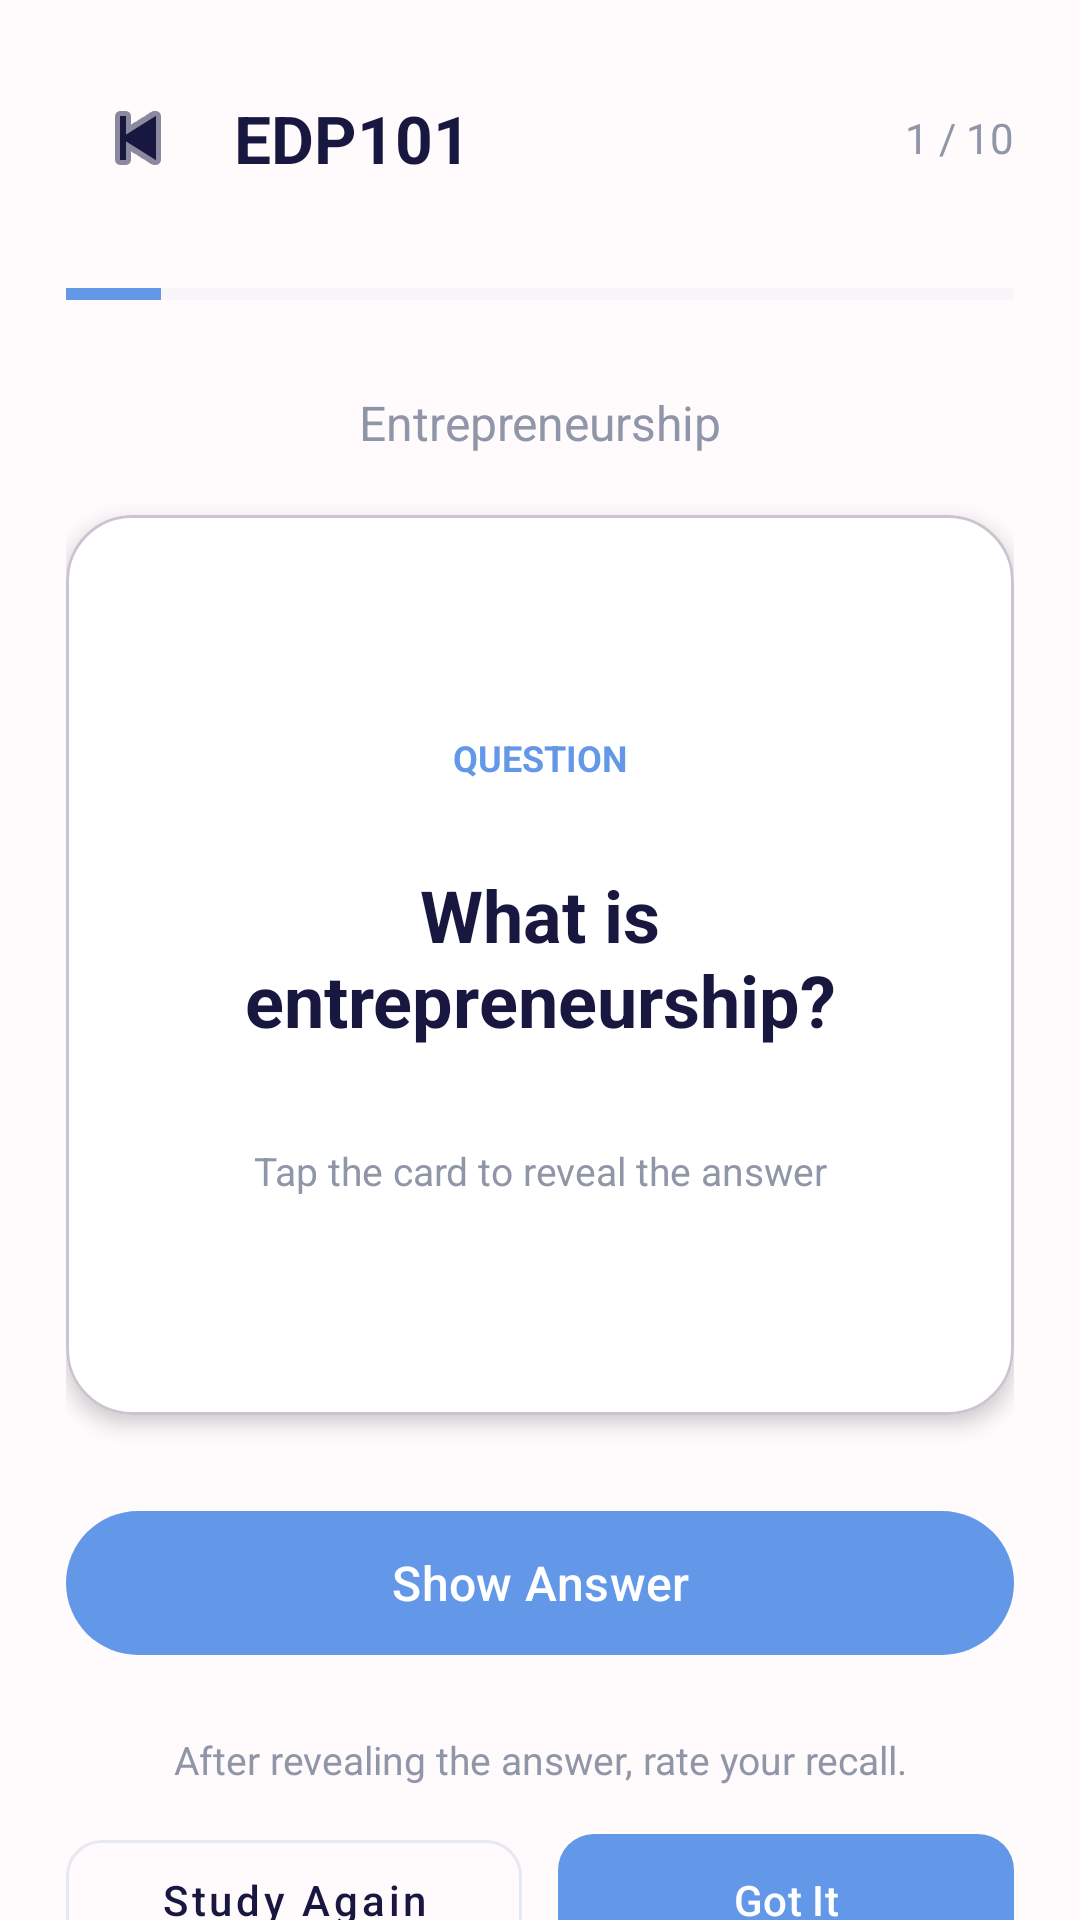

Named icons in this screenshot (1080×1920) and their centers, (x=x, y=y):
Go back: (x=138, y=138)
